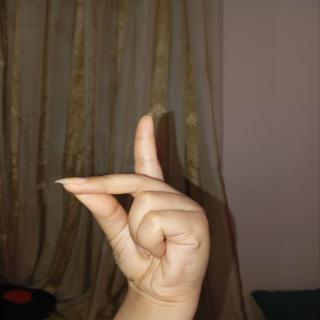TAA: (48, 108, 245, 320)
